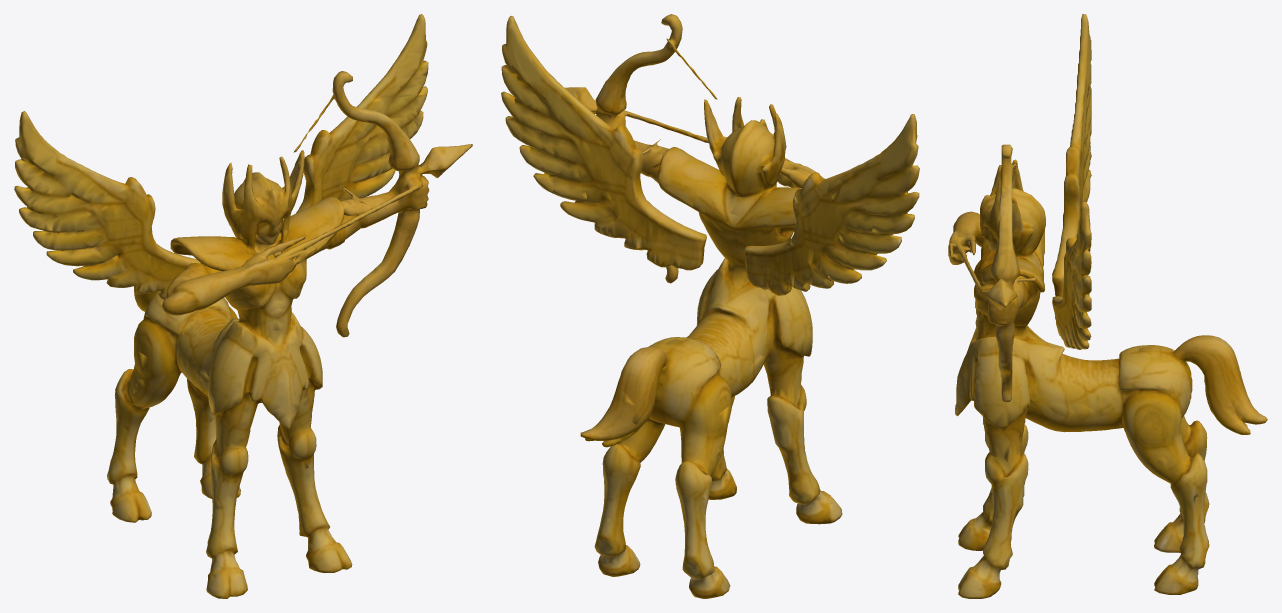
The model's file is cloth-trellis.sagittarius.glb.
3 renders of one model, left to right at view 1: azimuth 30°, elevation 25°; view 2: azimuth 150°, elevation 25°; view 3: azimuth 270°, elevation 25°, orthographic. The views are drawn at different scales.
Parts seen in each view (by area): view 1: purse-cloth-s7; view 2: purse-cloth-s7; view 3: purse-cloth-s7.
Part boxes in pixels (bbox=[...]): purse-cloth-s7: bbox=[14, 14, 472, 598]; purse-cloth-s7: bbox=[501, 14, 919, 598]; purse-cloth-s7: bbox=[948, 14, 1267, 598].
Bounding box in the file's own units: 1.47 × 1.6 × 1.01.
1 material, 1 textured.
